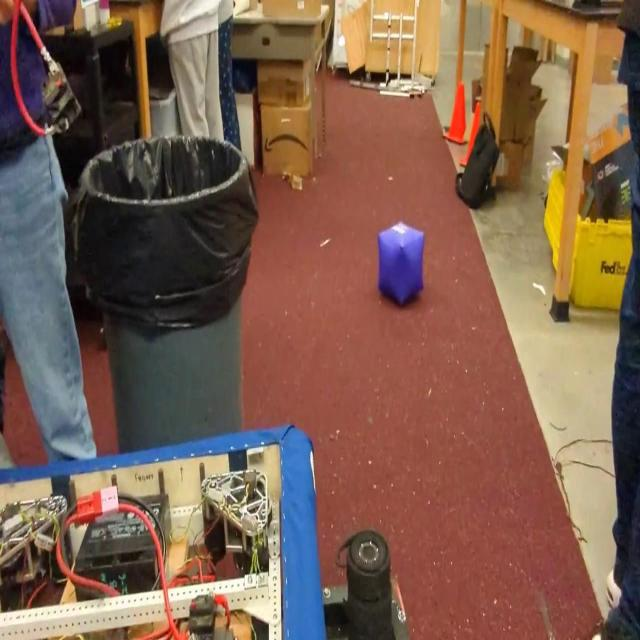frc_cube: (376, 223, 424, 307)
